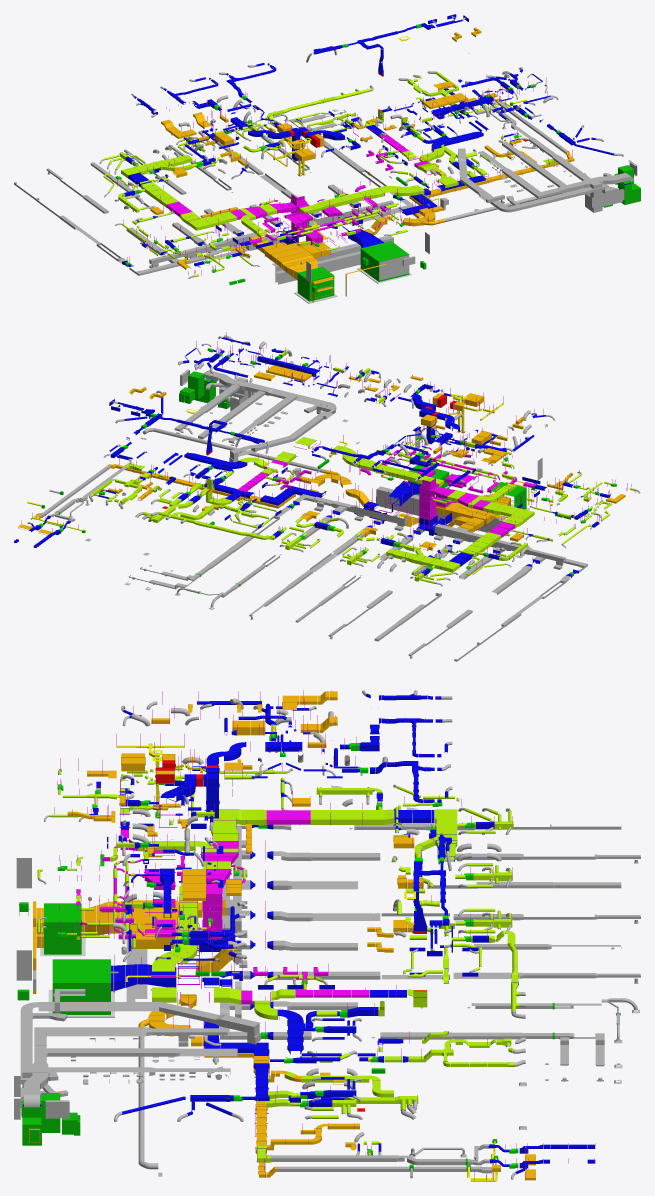
File: grimes-duct.glb
3 views of the same model, one above another, from view 1: azimuth 30°, elevation 25°; view 2: azimuth 150°, elevation 25°; view 3: azimuth 270°, elevation 25° (orthographic). The views are drawn at different scales.
Parts seen in each view (by area): view 1: layer:duct; view 2: layer:duct; view 3: layer:duct.
Boxes of the visible parts, x1=… form: layer:duct: x1=14, y1=14, x2=640, y2=303; layer:duct: x1=14, y1=332, x2=640, y2=661; layer:duct: x1=14, y1=690, x2=640, y2=1181.
Size of the model in its own units: 66.26 by 17.38 by 48.34.
